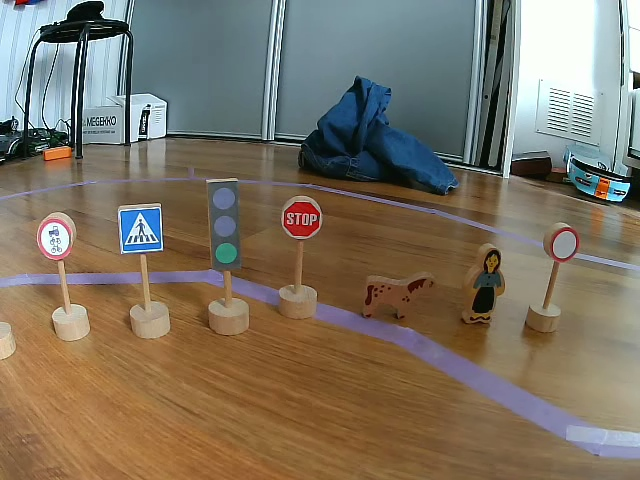fietspad: (37, 218, 72, 261)
groenlicht: (207, 177, 244, 270)
mens: (462, 244, 505, 324)
paard: (361, 272, 436, 318)
stopbord: (282, 197, 321, 239)
wegdicht: (549, 226, 580, 261)
zebrapad: (118, 204, 164, 256)
